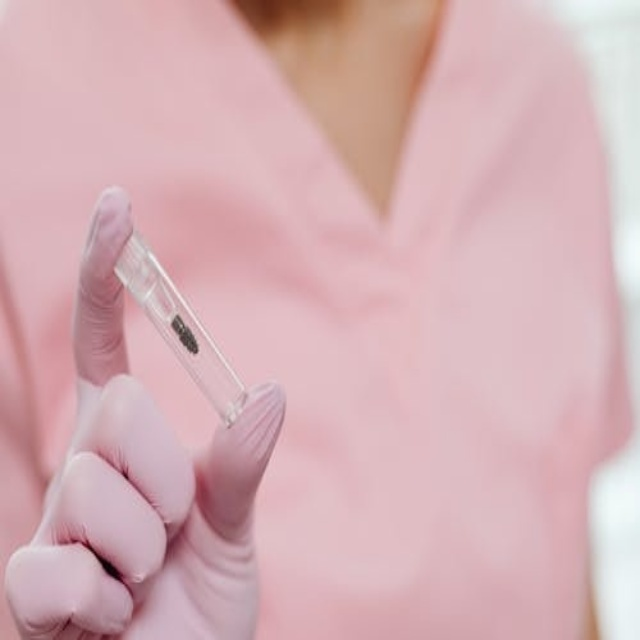Guantes: (4, 179, 285, 630)
